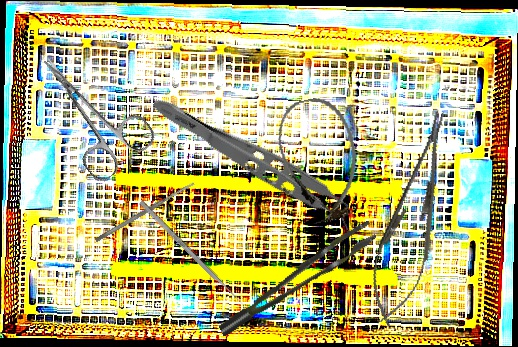Cannula: (270, 92, 369, 228)
Iris Scissors: (18, 34, 160, 186)
Needle Holder: (359, 102, 467, 333)
Pusher: (138, 200, 246, 307)
Spatula Surgical: (94, 180, 196, 244)
Tissue Forceps: (141, 92, 368, 237), (206, 220, 386, 337)
